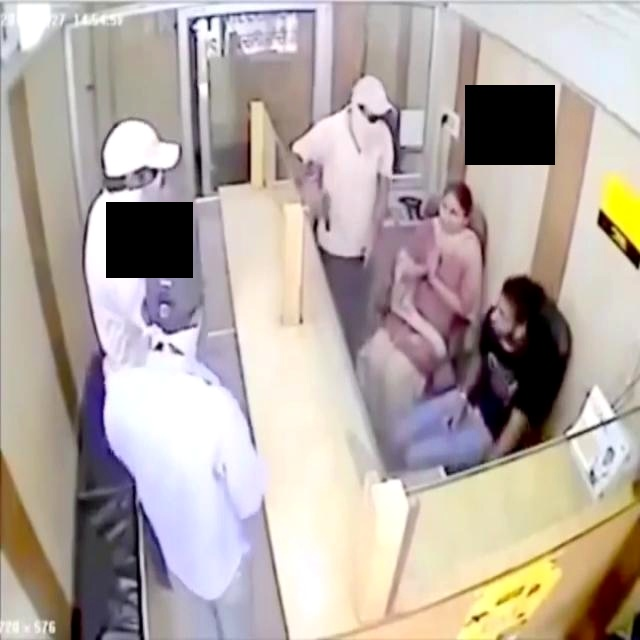gun: (317, 191, 336, 233)
